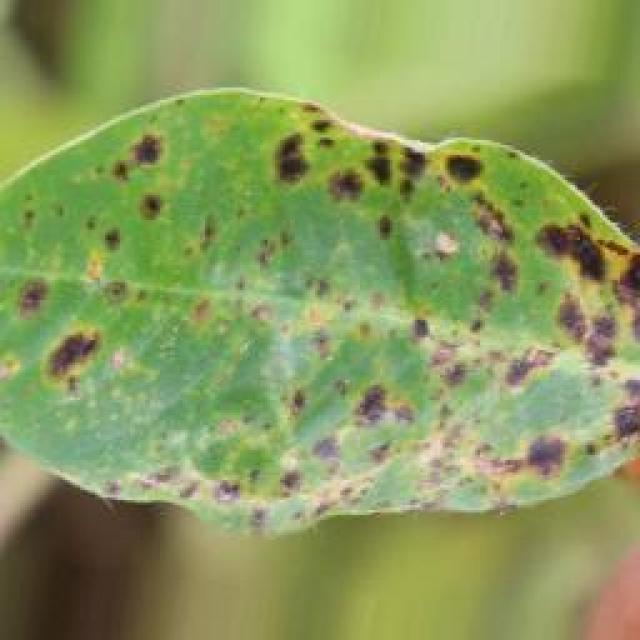Yellowish: (20, 55, 640, 575)
